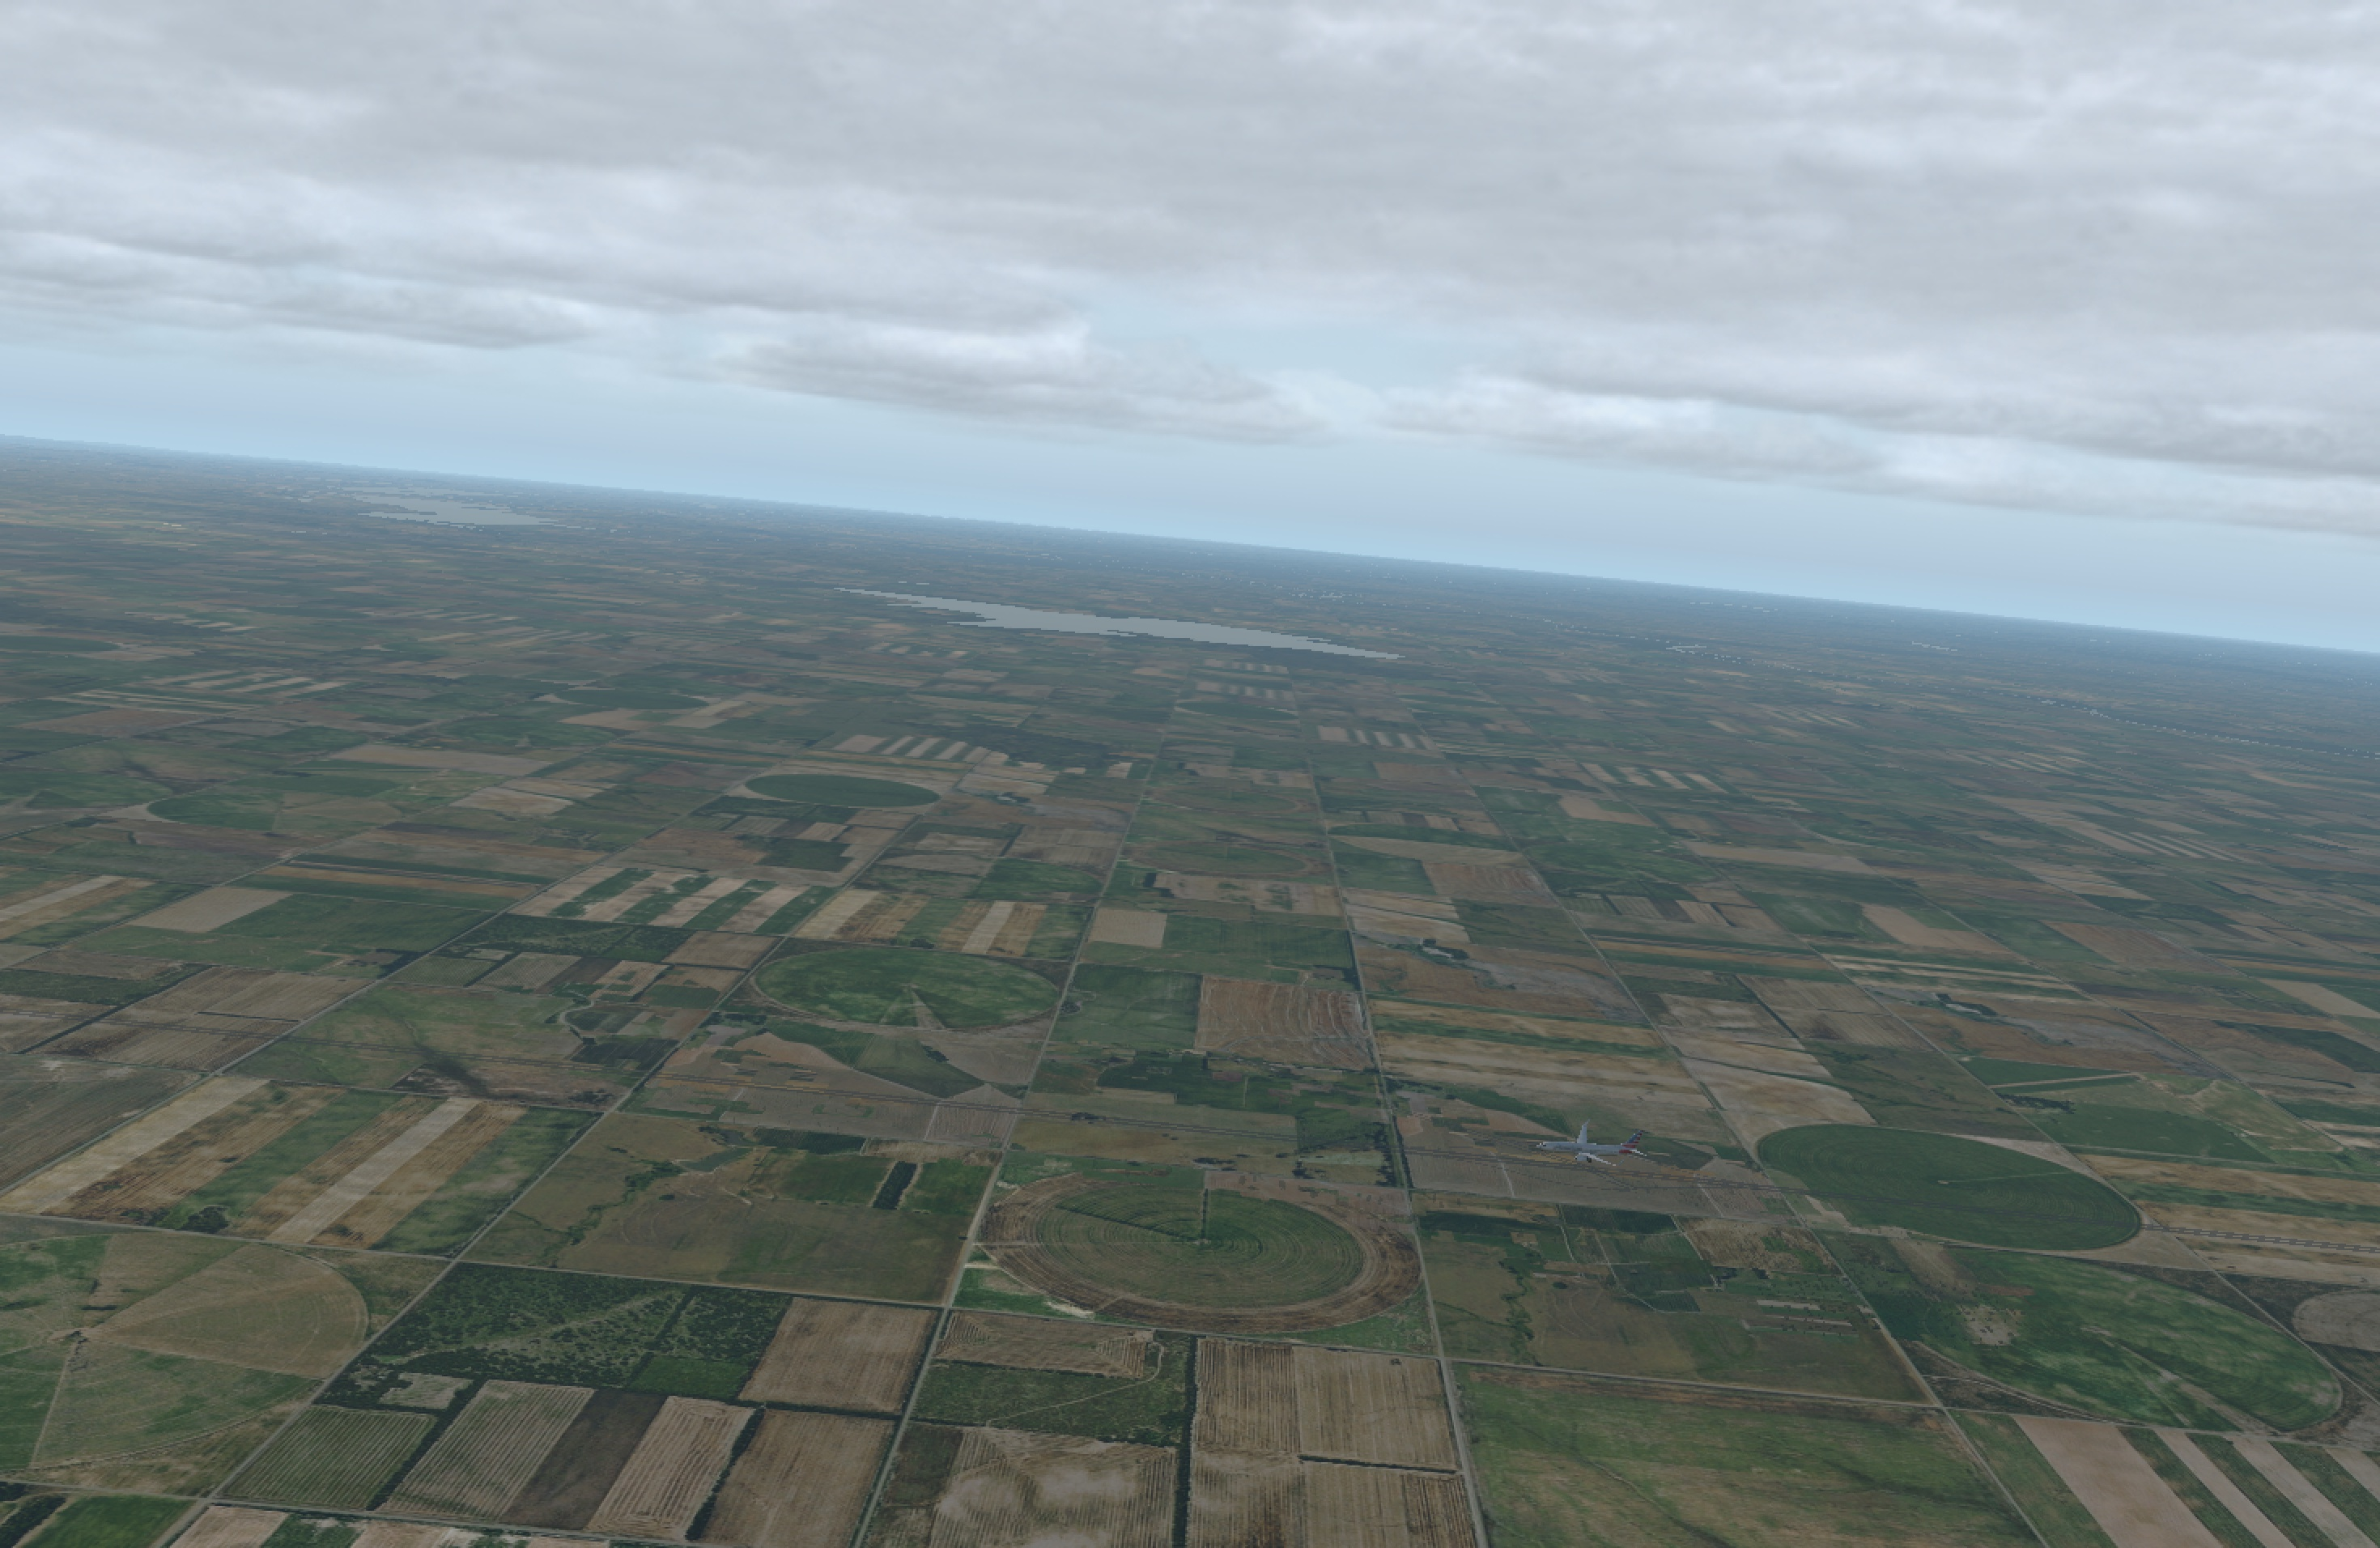aircraft: (1532, 1130, 1638, 1170)
